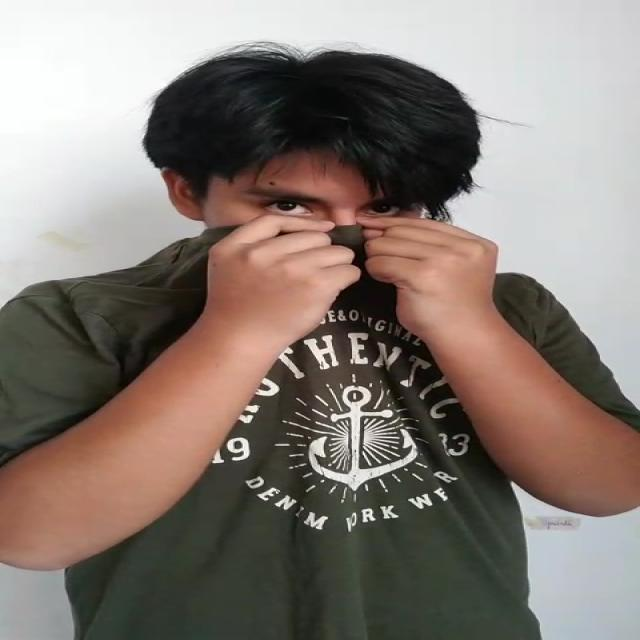8_ropa_rostro: (131, 218, 539, 335)
